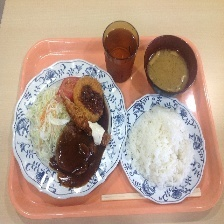sabzi: (48, 103, 115, 191)
